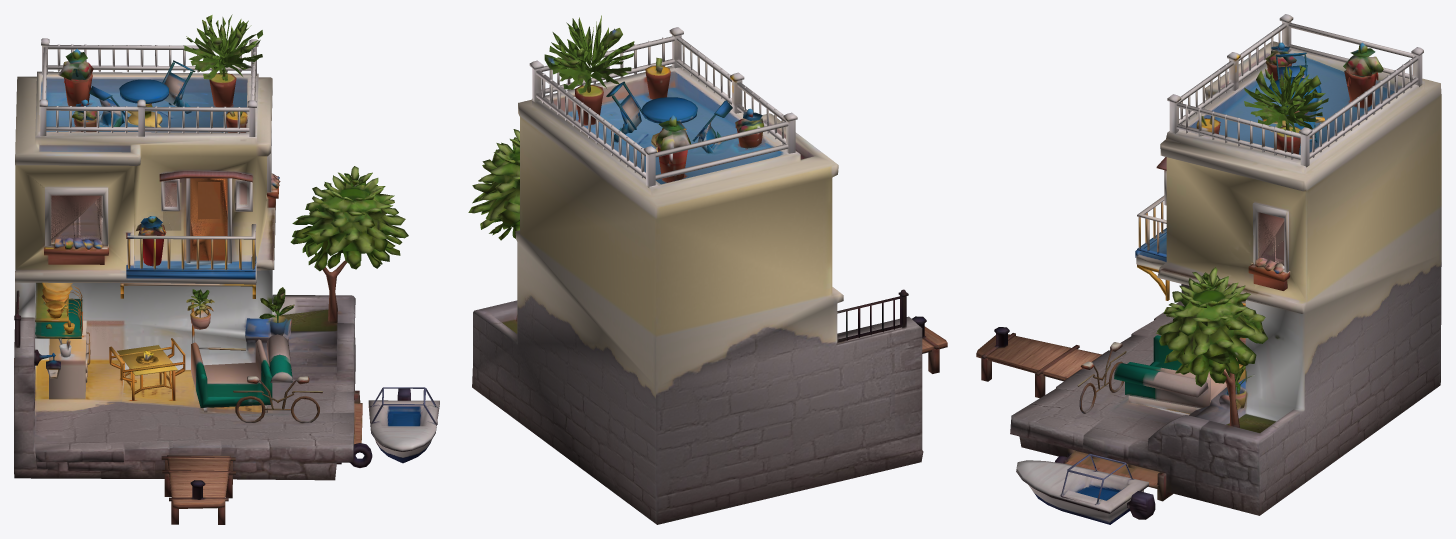
File: tier2-lv9.glb
The picture shows the model from 3 angles, left to right: view 1: azimuth 30°, elevation 25°; view 2: azimuth 150°, elevation 25°; view 3: azimuth 270°, elevation 25°; orthographic projection. The views are drawn at different scales.
Visible parts, largest first — view 1: tripo_node_4fe372bc-f2ed-4f95-b485-6cd23183b752; view 2: tripo_node_4fe372bc-f2ed-4f95-b485-6cd23183b752; view 3: tripo_node_4fe372bc-f2ed-4f95-b485-6cd23183b752.
Boxes of the visible parts, bbox=[...] form: tripo_node_4fe372bc-f2ed-4f95-b485-6cd23183b752: bbox=[14, 14, 439, 524]; tripo_node_4fe372bc-f2ed-4f95-b485-6cd23183b752: bbox=[468, 15, 947, 524]; tripo_node_4fe372bc-f2ed-4f95-b485-6cd23183b752: bbox=[976, 14, 1441, 524].
Bounding box in the file's own units: 1.07 × 0.9824 × 1.04.
1 material, 1 textured.
